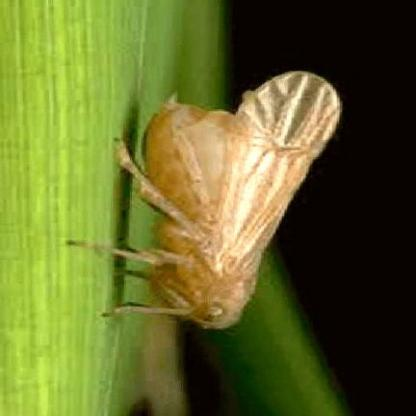brown-planthopper: (142, 65, 340, 333)
